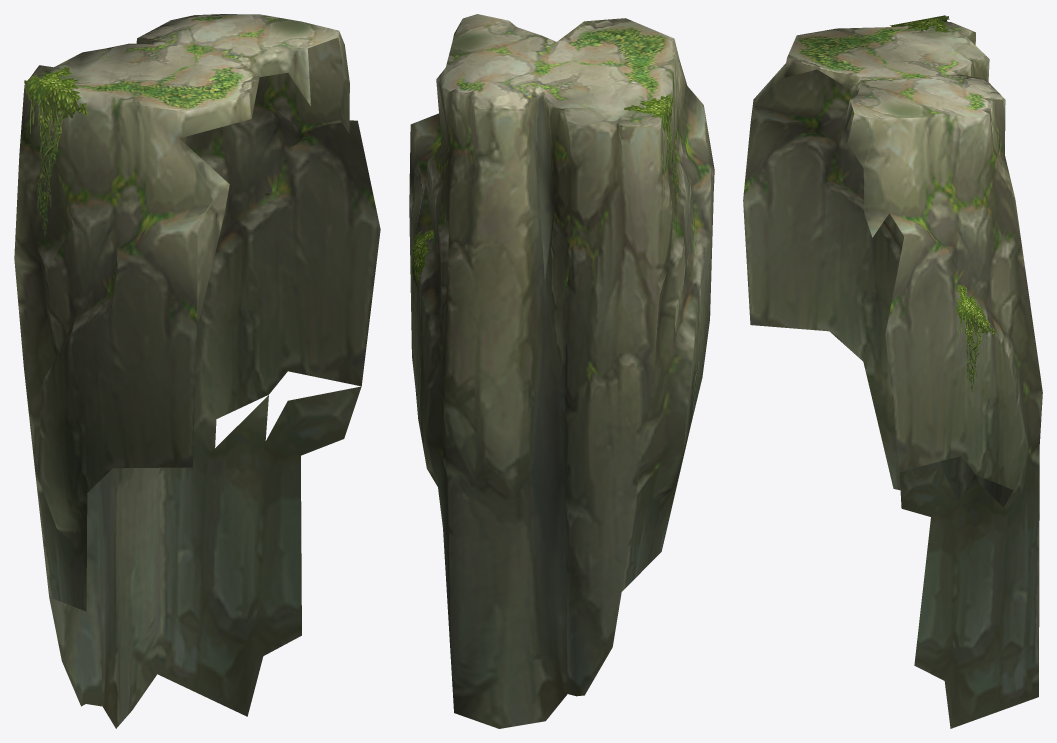
File: S_Rock_Green080_H7.FBX
3 views of the same model, side by side, from view 1: azimuth 30°, elevation 25°; view 2: azimuth 150°, elevation 25°; view 3: azimuth 270°, elevation 25° (orthographic). The views are drawn at different scales.
Parts seen in each view (by area): view 1: S_Rock_Green080_H7; view 2: S_Rock_Green080_H7; view 3: S_Rock_Green080_H7.
Part boxes in pixels (box(x1,y1,x2,y2)): S_Rock_Green080_H7: box(14, 14, 380, 728); S_Rock_Green080_H7: box(409, 14, 714, 728); S_Rock_Green080_H7: box(743, 15, 1042, 728).
Bounding box in the file's own units: 5967 × 12357 × 5296.
